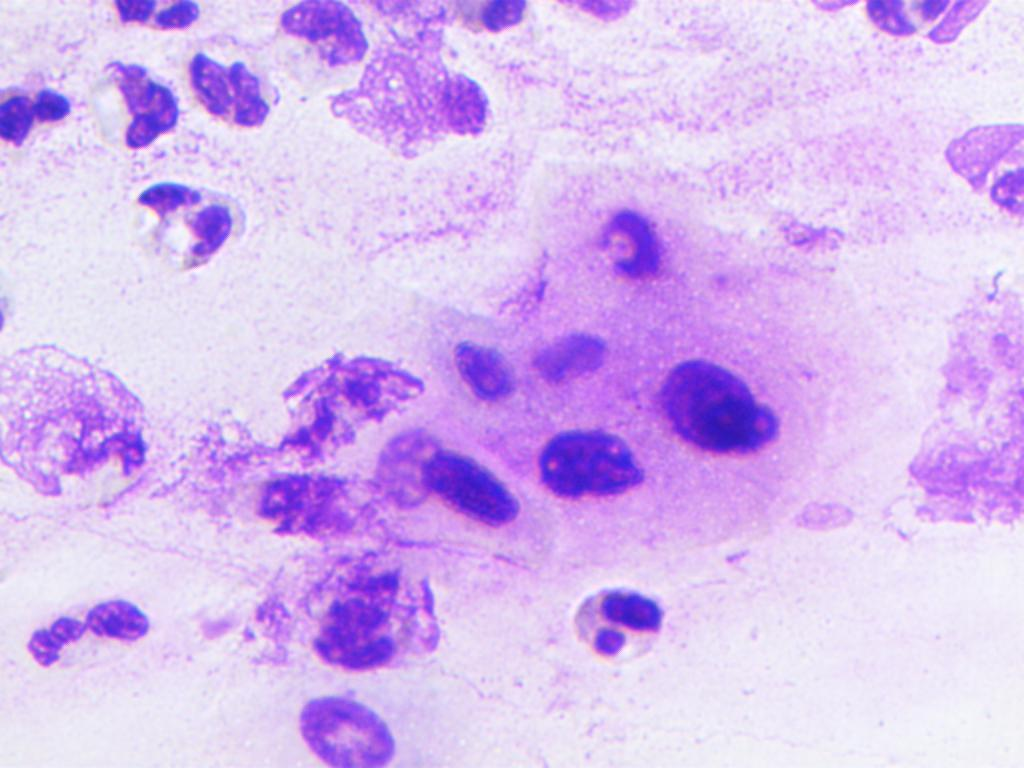epithelial: (635, 344, 790, 459), (371, 427, 527, 538), (266, 678, 409, 768), (525, 415, 648, 510), (434, 319, 518, 418)
neutrophil: (117, 169, 254, 277), (15, 587, 158, 677), (289, 579, 414, 675), (187, 36, 276, 144), (561, 580, 669, 666), (100, 44, 178, 153), (950, 120, 1024, 232), (856, 0, 994, 49), (0, 84, 79, 142), (110, 0, 209, 34)
